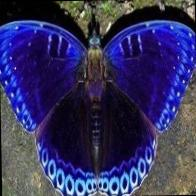butterfly: (0, 1, 195, 196)
